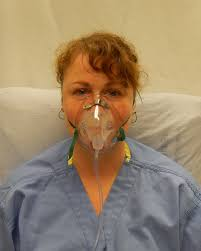mask: (57, 36, 137, 160)
